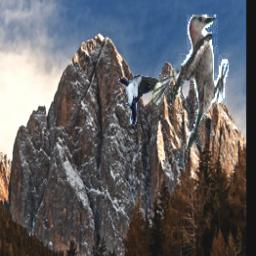Swallow: (117, 75, 164, 125)
Woodpecker: (149, 15, 229, 153)
